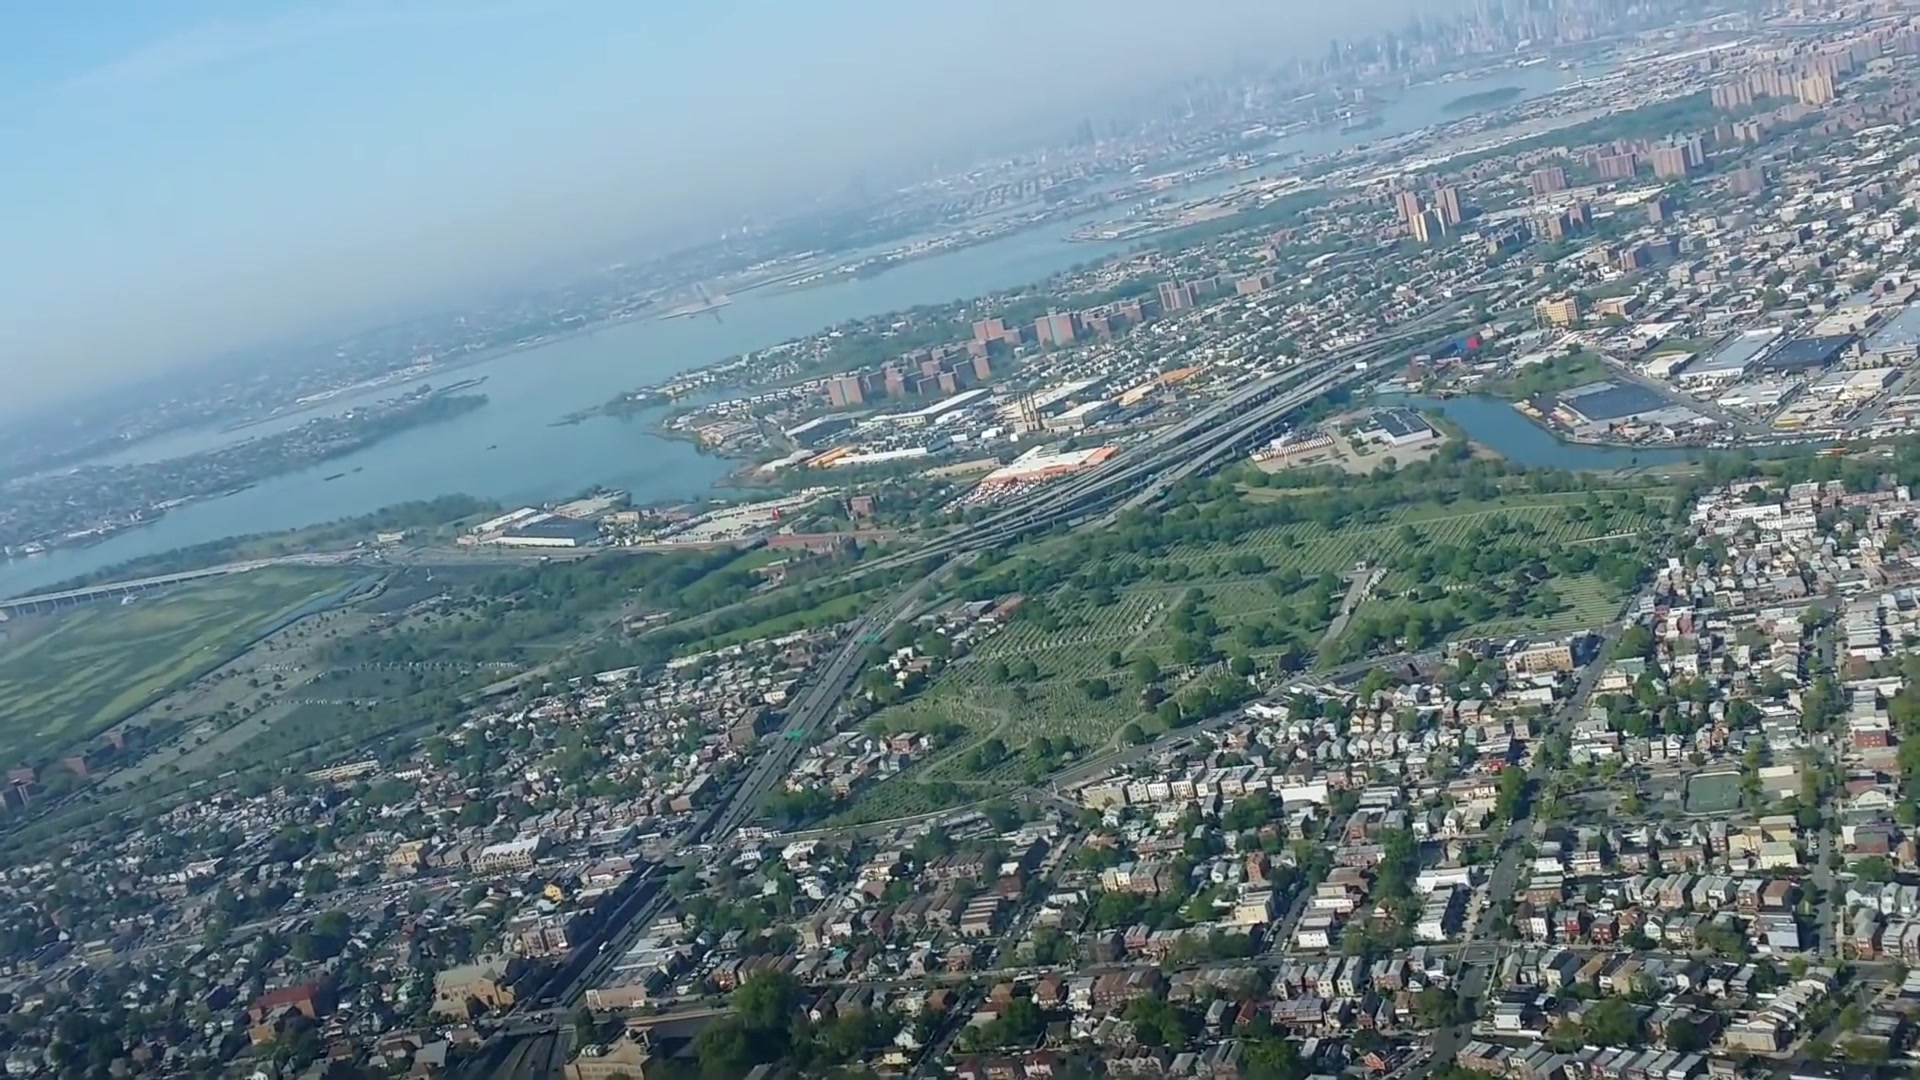runway: (692, 280, 716, 309)
